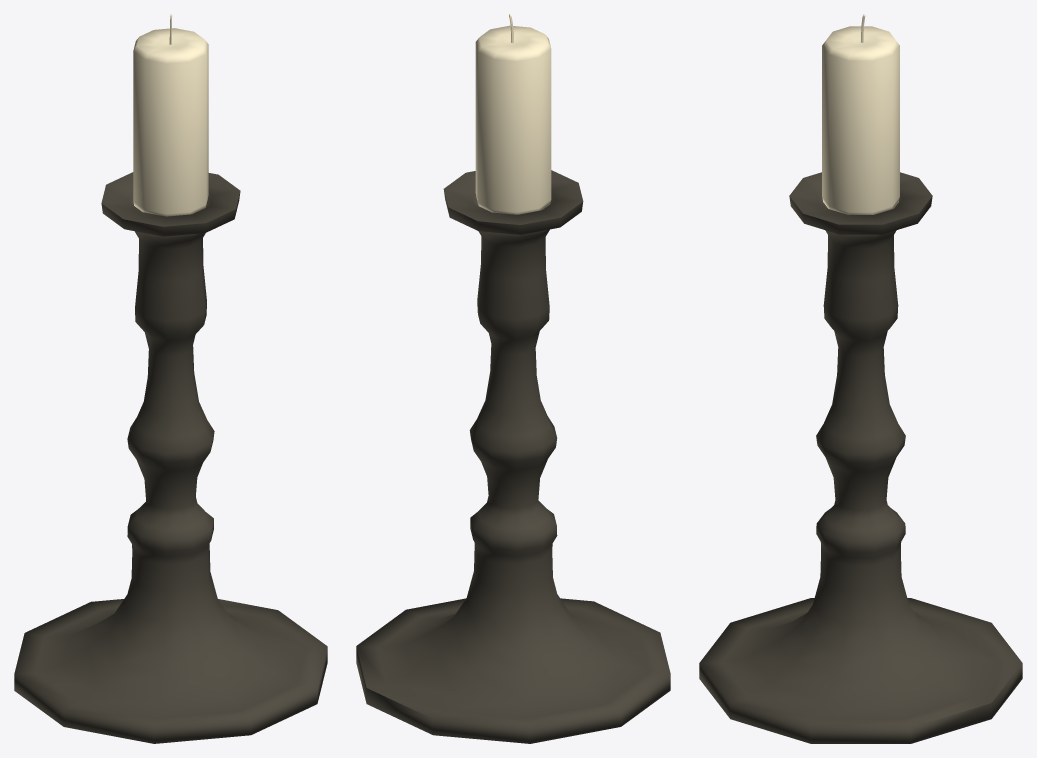
File: candle.glb
3 renders of one model, left to right at view 1: azimuth 30°, elevation 25°; view 2: azimuth 150°, elevation 25°; view 3: azimuth 270°, elevation 25°, orthographic.
Visible parts, largest first — view 1: candlestick; view 2: candlestick; view 3: candlestick.
Boxes of the visible parts, x1=… form: candlestick: x1=14, y1=14, x2=327, y2=743; candlestick: x1=356, y1=14, x2=670, y2=743; candlestick: x1=699, y1=14, x2=1022, y2=743.
Size of the model in its own units: 4.17 by 9.98 by 4.39.
